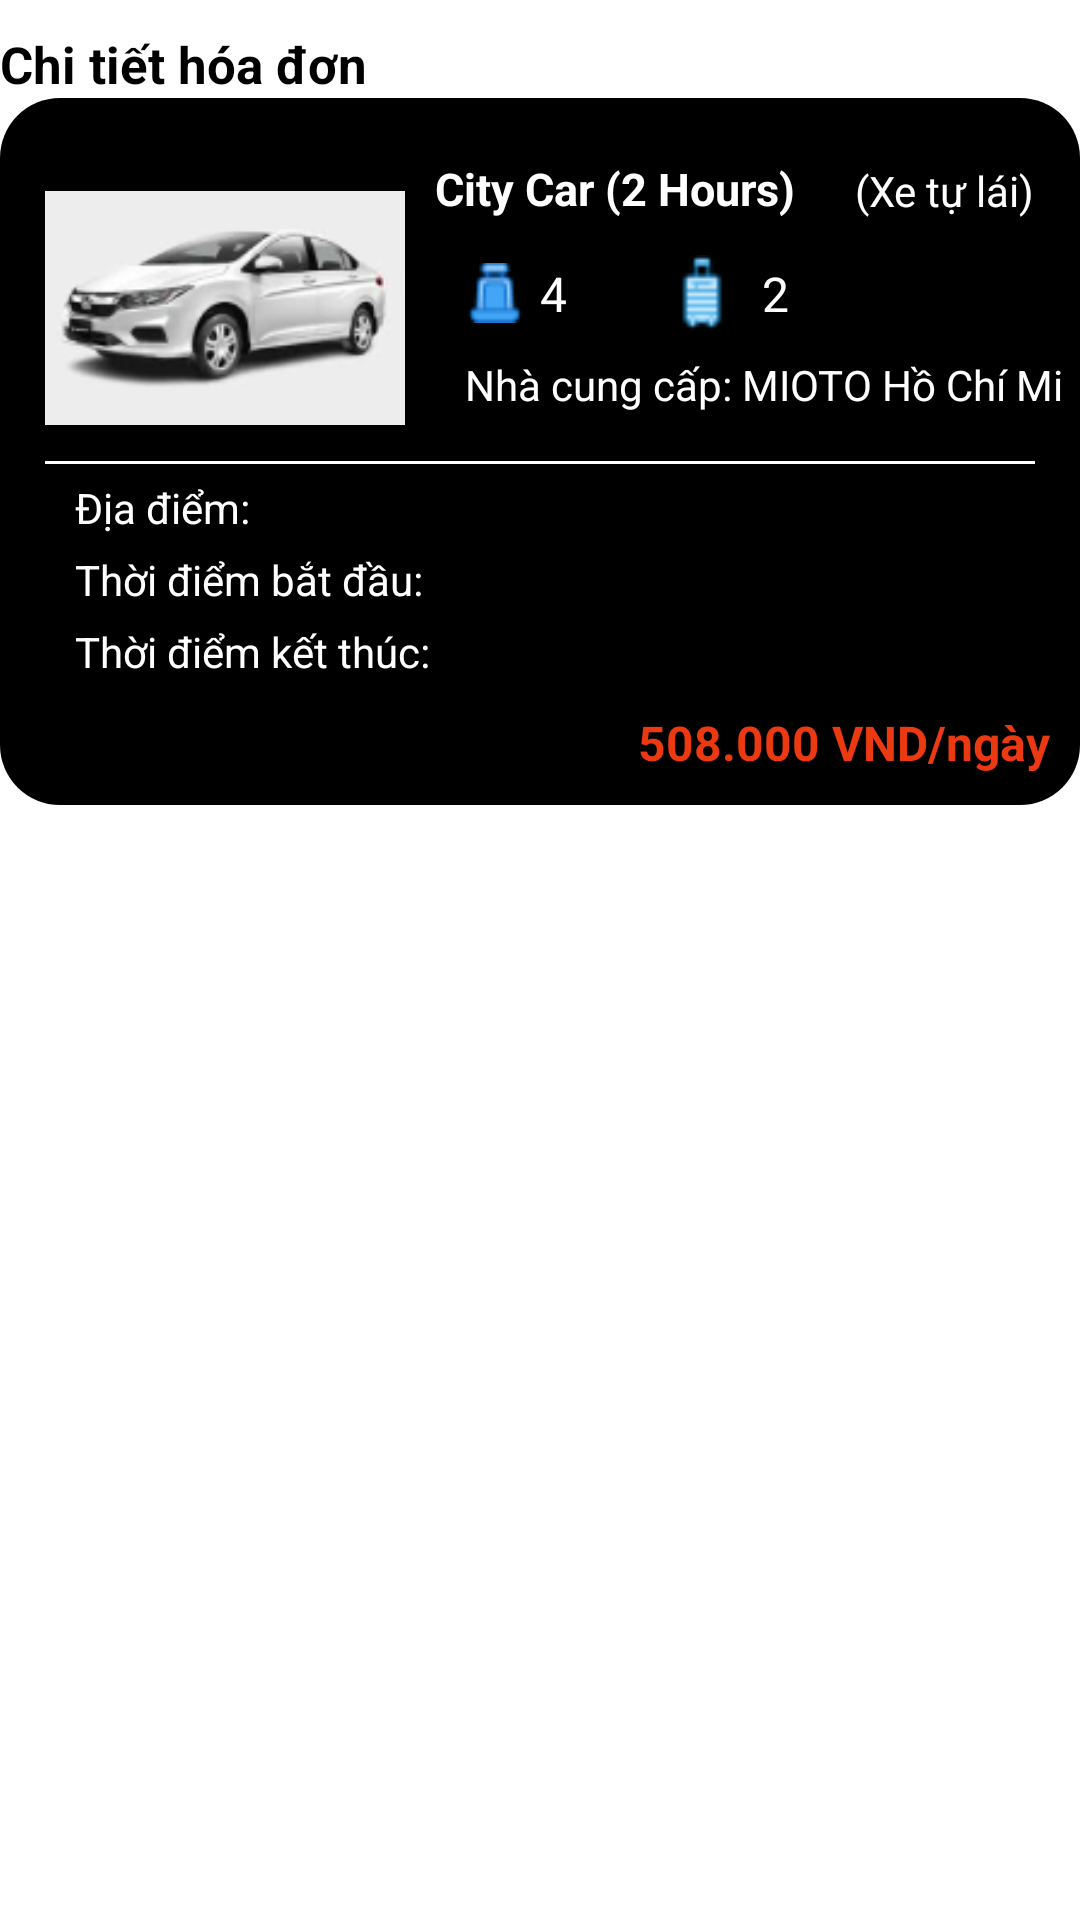

Icon bounding boxes for this 1080 × 1920 phone screenshot, format (x1, y1, x2, y2):
luggage: (682, 255, 722, 330)
seat count: (469, 263, 521, 323)
